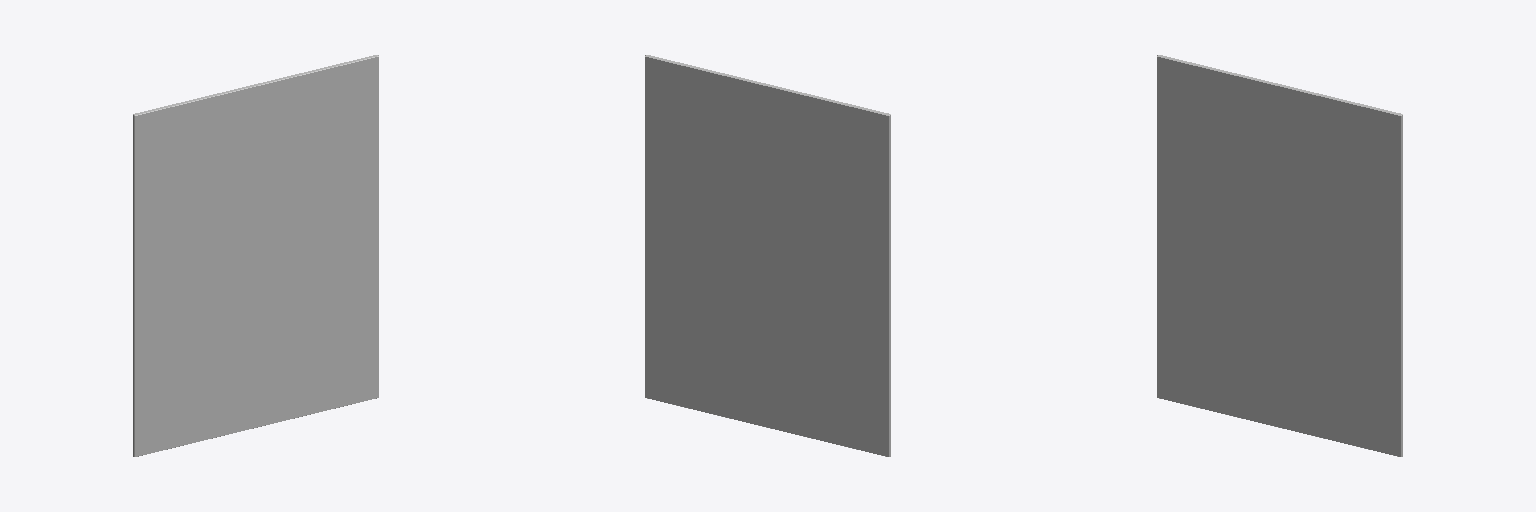
File: tabletop_scaled.obj
The picture shows the model from 3 angles: view 1: azimuth 30°, elevation 25°; view 2: azimuth 150°, elevation 25°; view 3: azimuth 330°, elevation 25°; orthographic projection.
Visible parts, largest first — view 1: tabletop; view 2: tabletop; view 3: tabletop.
Part boxes in pixels (x1,y1,x2,y2): tabletop: (133,55,378,456); tabletop: (645,55,890,456); tabletop: (1157,55,1402,456).
Bounding box in the file's own units: 0.9144 × 1.22 × 0.016.